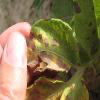Potato leaf early blight: (22, 18, 81, 74), (24, 75, 91, 99)
